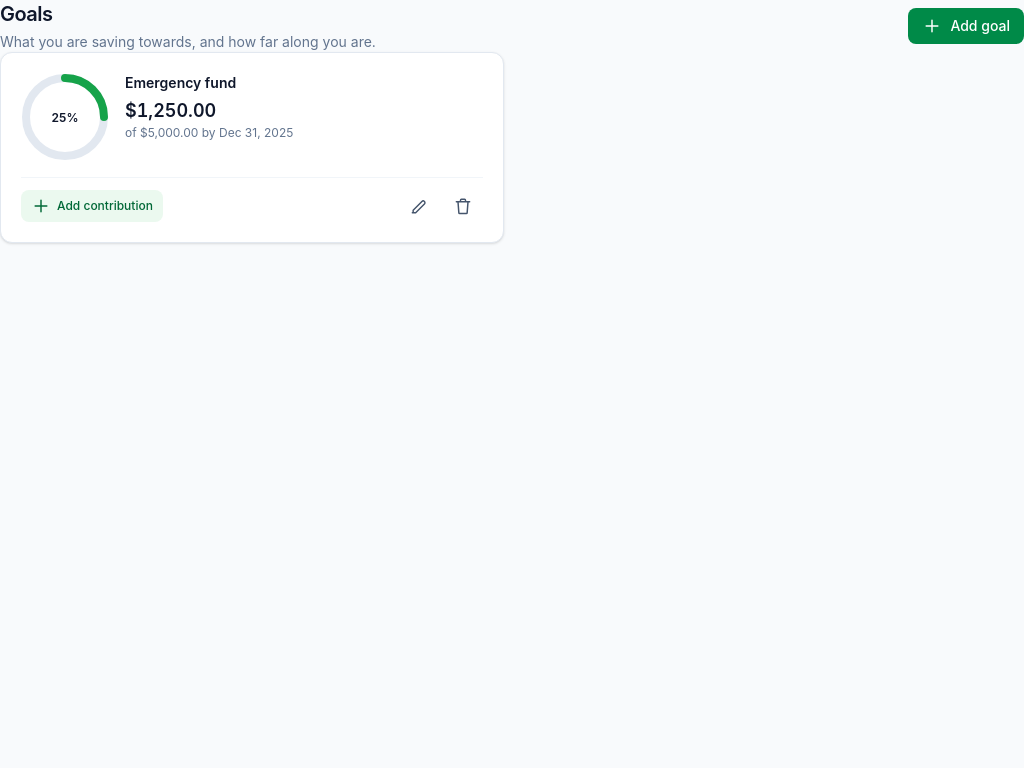
Test: GoalsPage › adds a contribution
This screenshot has width=1024, height=768.
Expected: the text "Emergency fund" is shown, [125,74,236,91]
Click the button "Add contribution" at x=92, y=206, box [21,190,163,222]
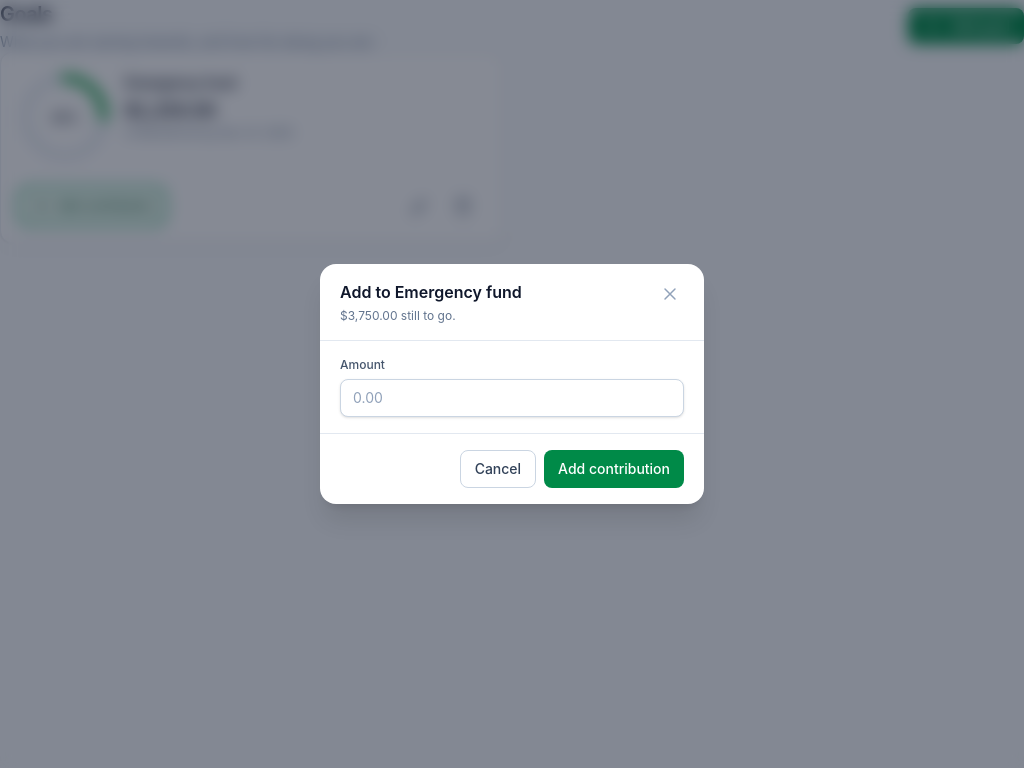
Type "250" into the number field labelled "Amount" at x=512, y=398, box [340,379,684,417]
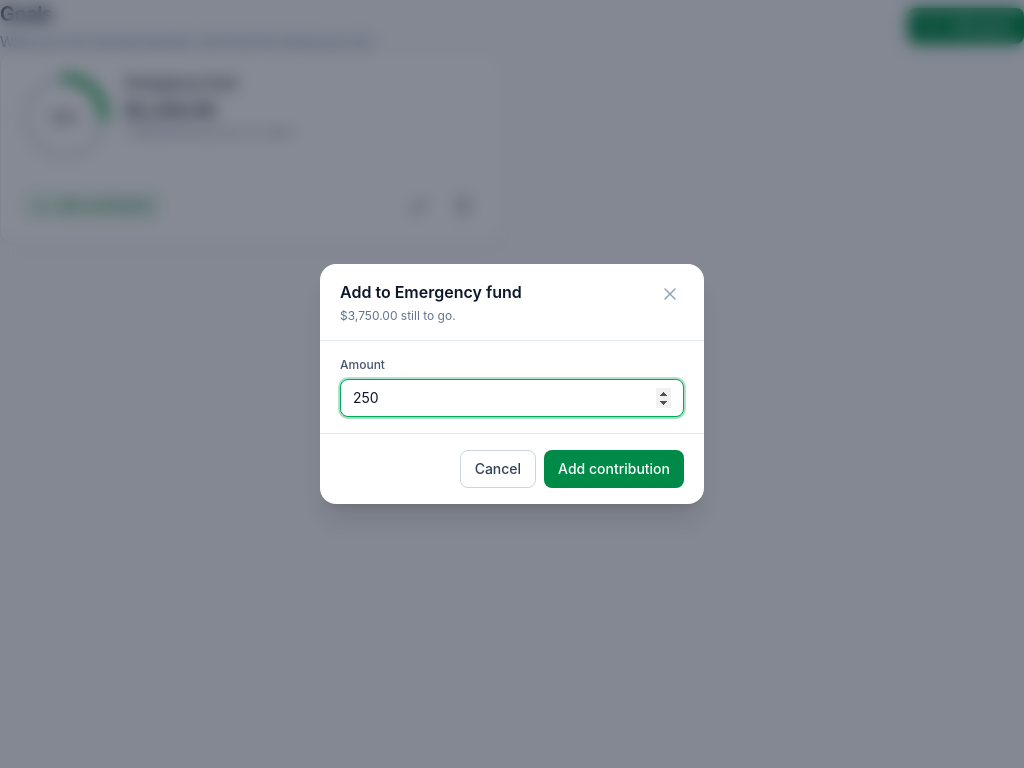
Click the button "Add contribution" at x=614, y=469, box [544,450,684,488]
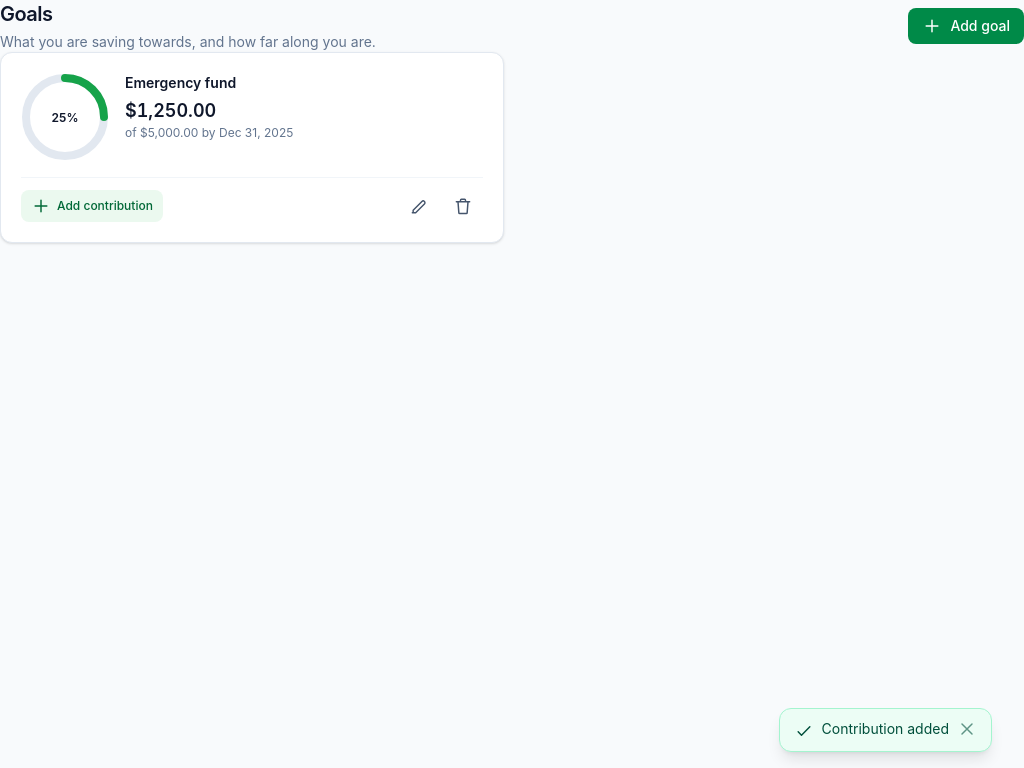
Expected: the text "Contribution added" is shown, [822,719,949,739]
